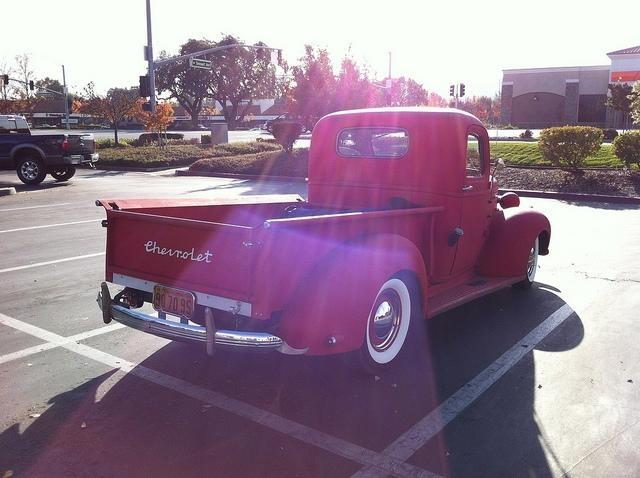truck: (93, 106, 553, 375), (0, 114, 100, 186)
